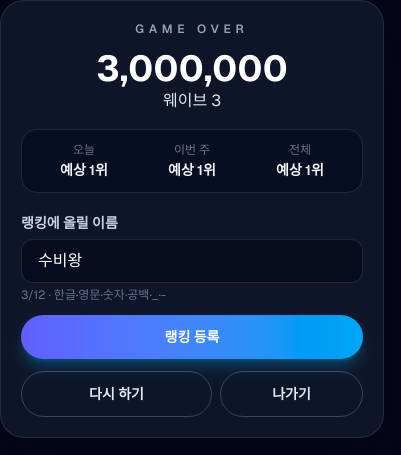
ScoreSubmitPanel — 게임 사양·보드를 따른다 › 엔진 버전이 달라 거절되면(배포 뒤 옛 화면) 새로고침 버튼을 주고 보관을 지운다
Click the button "랭킹 등록". click: (192, 337)
box: [21,315,363,359]
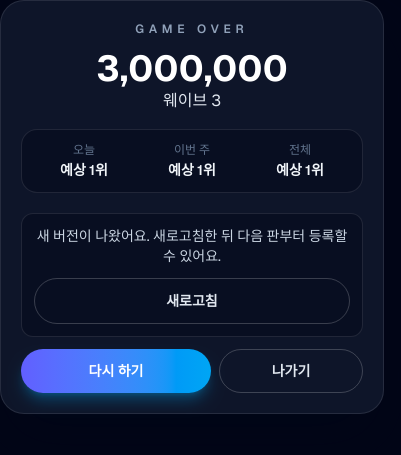
Expected: the message shows "새 버전이 나왔어요", [37,227,347,265]
Expected: the button "새로고침" is shown, [34,278,350,324]
